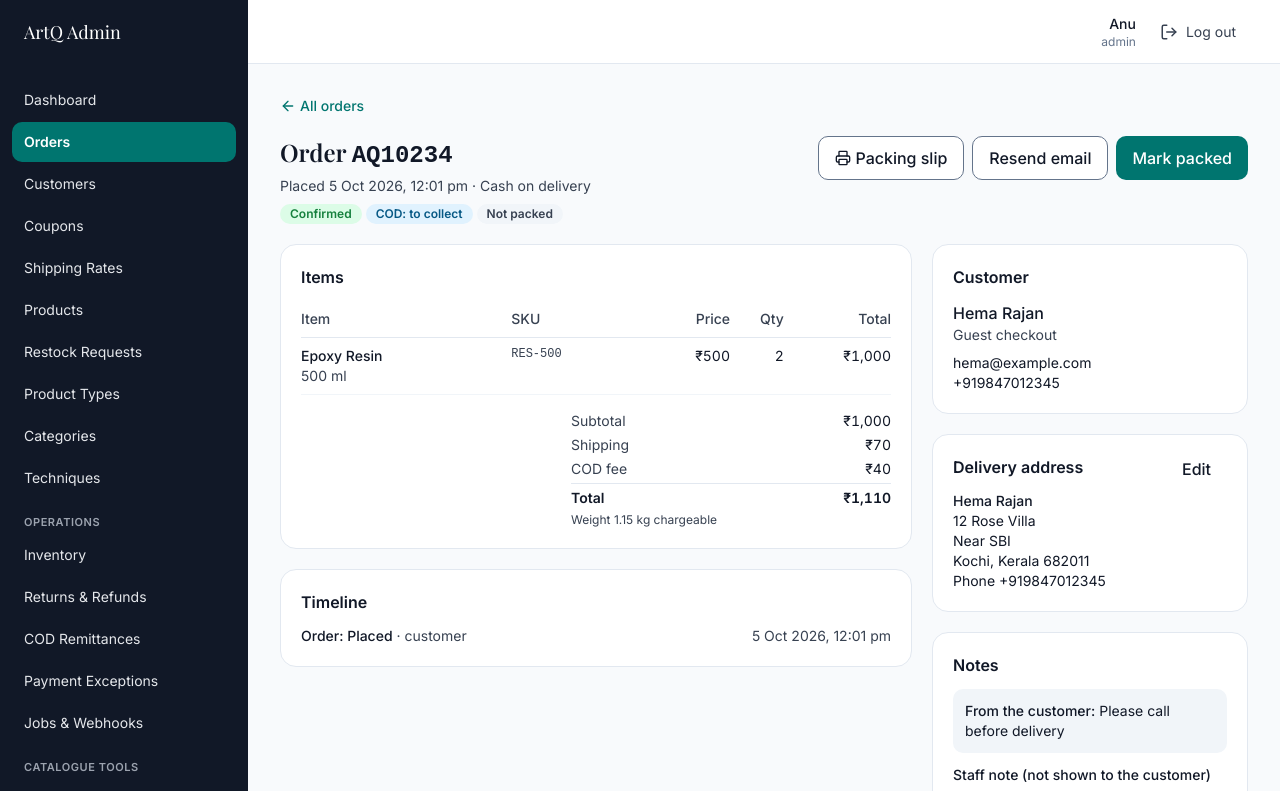
Test: Order detail › pack sends an empty body; a refused step says why and reloads the order
This screenshot has width=1280, height=791.
Click the button "Mark packed": point(1182, 158) 1116,136 -> 1248,180
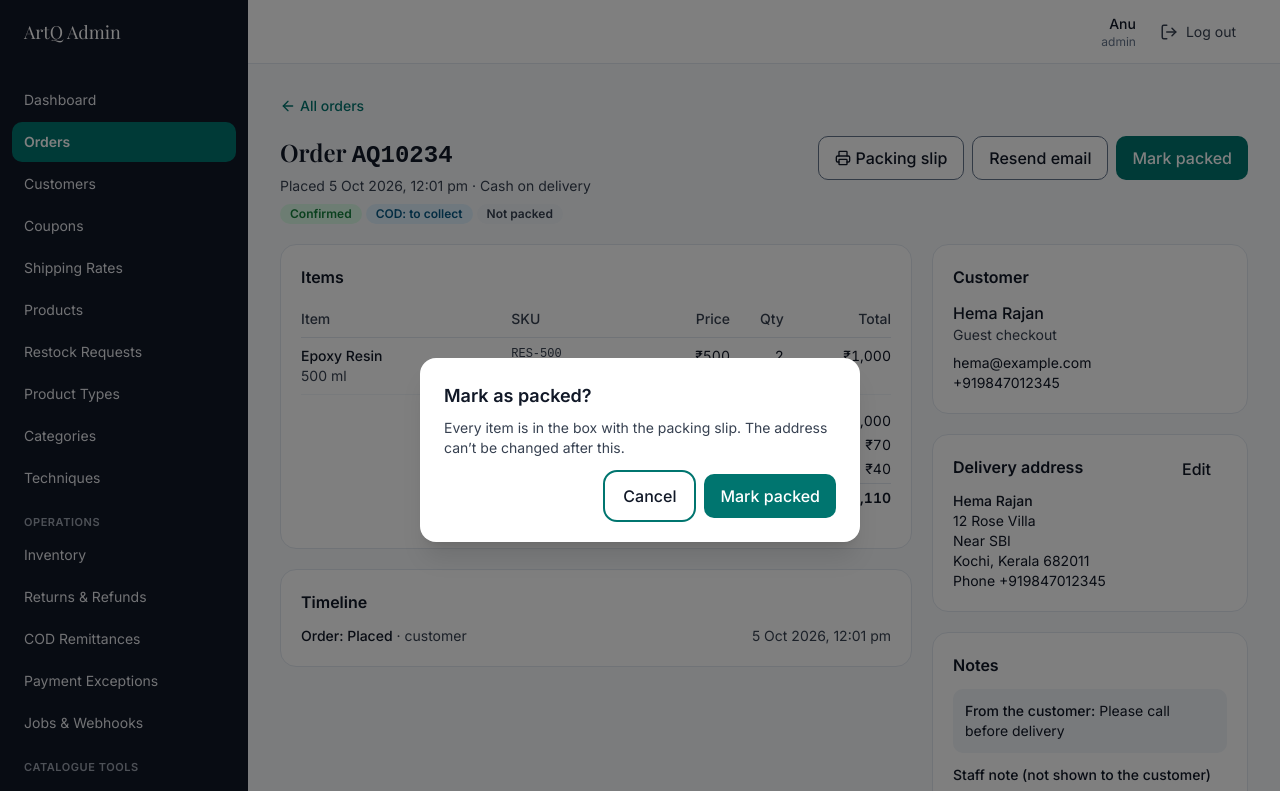
Click the button "Mark packed": point(770, 496) 704,474 -> 836,518
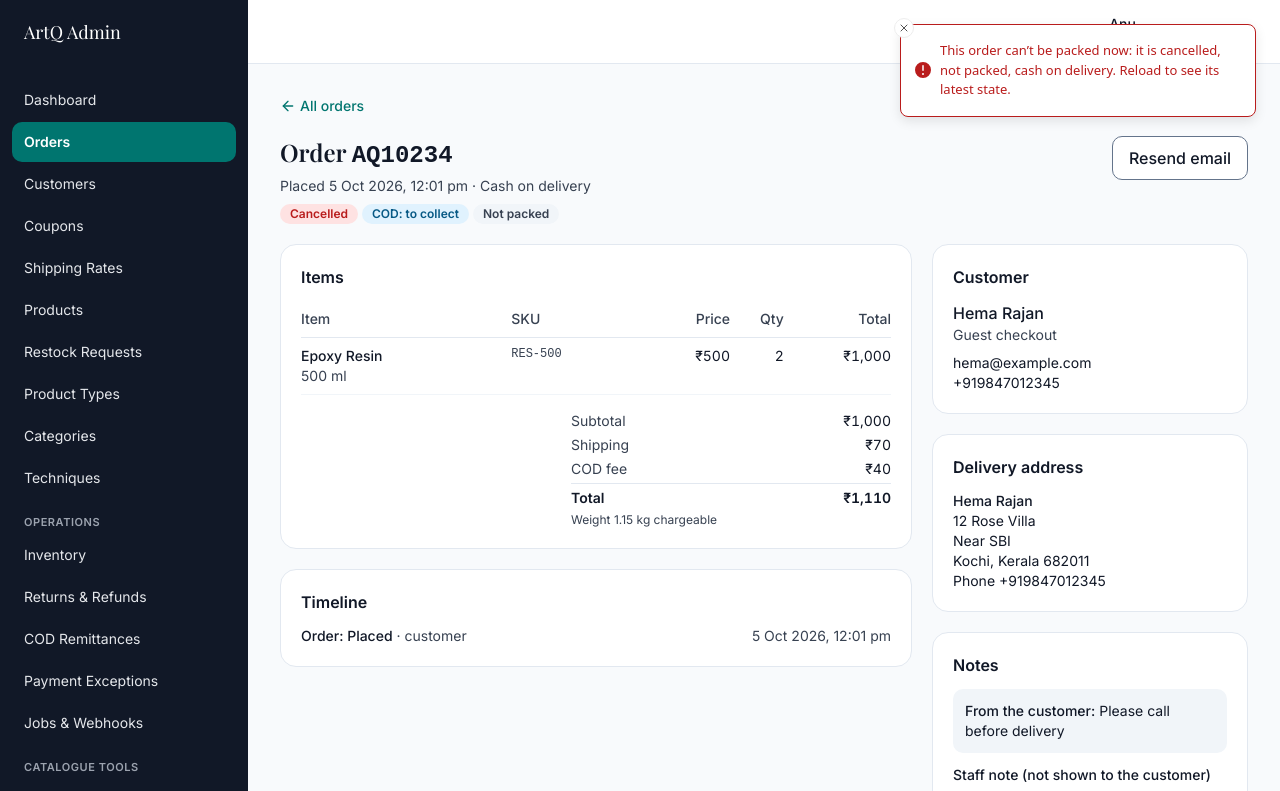
expect the text "can’t be packed now: it is cancelled" is shown: met, box 940,41 -> 1221,98
expect the button "Mark packed" is gone: met
expect the text "Cancelled" is shown: met, box 280,204 -> 358,224
